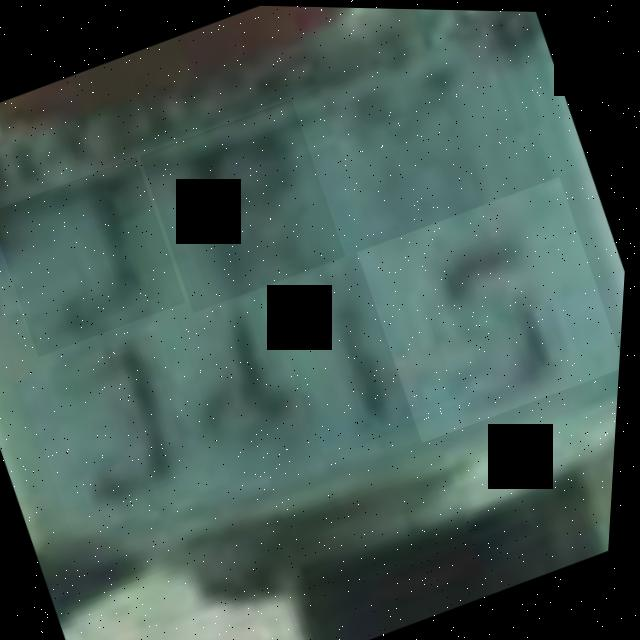1: (253, 219, 474, 460)
5: (351, 169, 632, 443), (6, 290, 245, 541)
J: (0, 154, 196, 359)
P: (134, 95, 355, 314)
